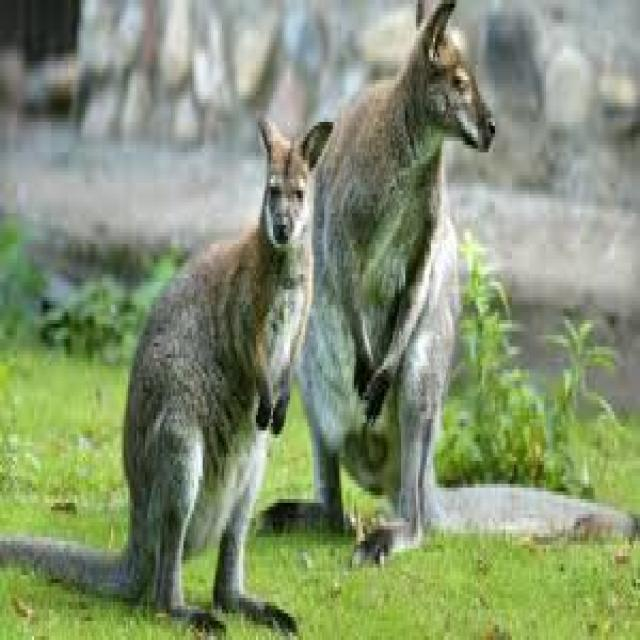Kangaroo: (260, 0, 640, 547), (0, 103, 335, 636)
